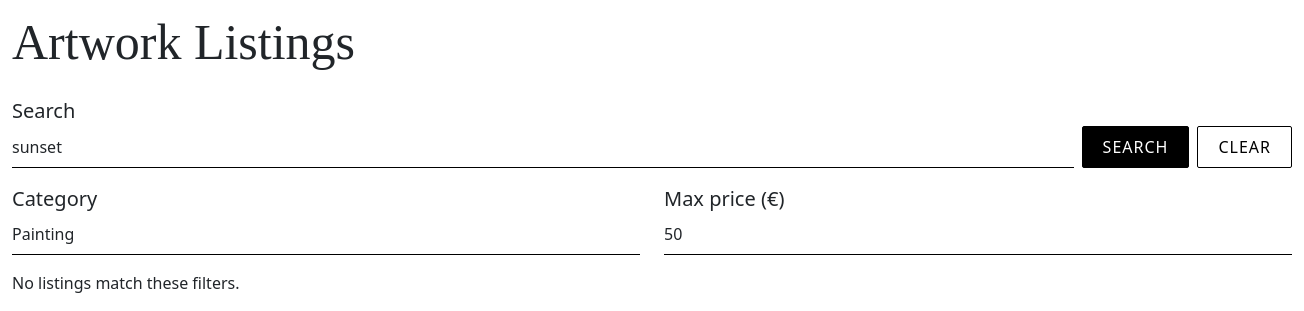
Scenario: ArtworkListings filters › clears every filter and requests all listings
Check: the text "No listings match these filters." is shown, box 12,272 -> 240,294
Click the button "Clear". click: {"x": 1245, "y": 147}
box: 1197,126 -> 1292,168
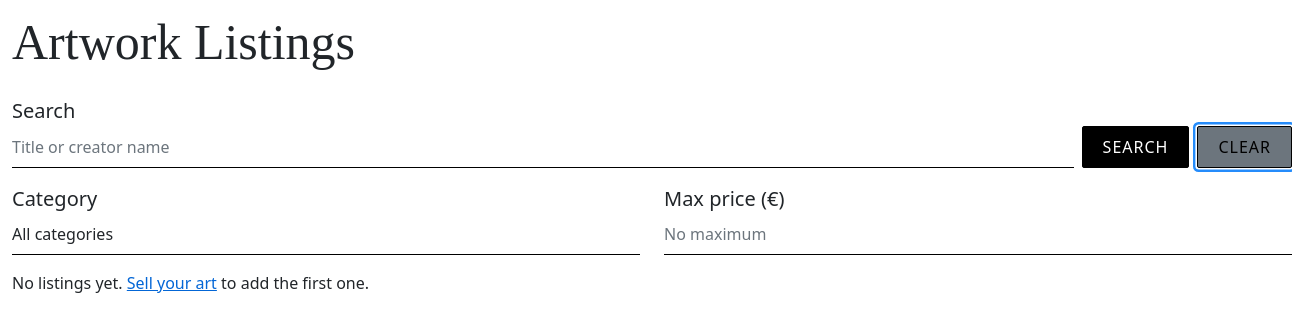
Check: the search field labelled "Search" is empty, box 12,127 -> 1074,168
Check: the dropdown labelled "Category" shows "All categories", box 12,214 -> 640,255
Check: the number field labelled "Max price (€)" is not empty, box 664,214 -> 1292,255
